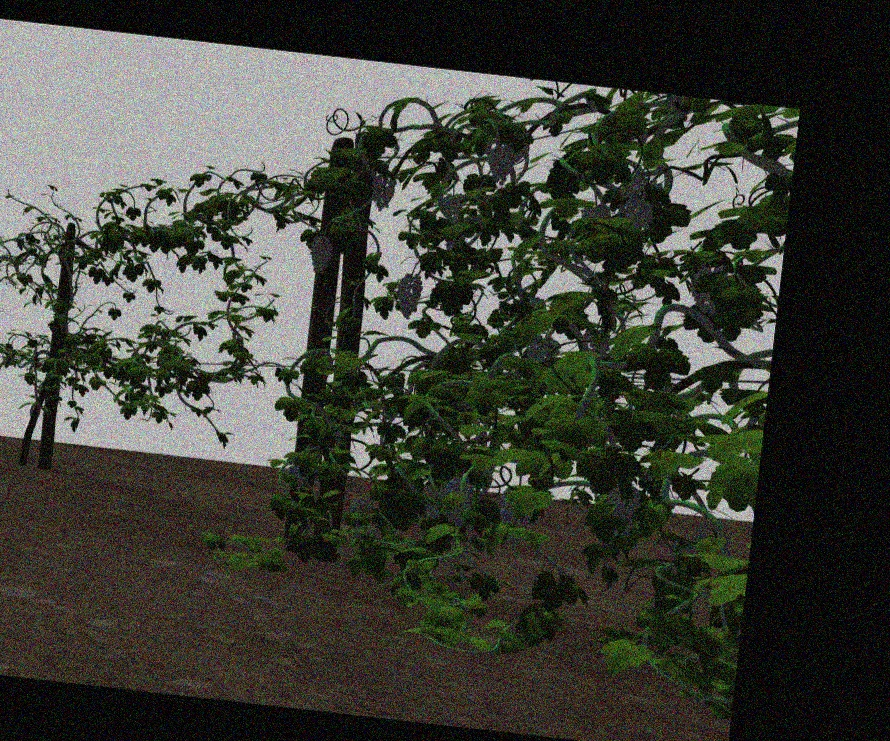grape: (625, 175, 659, 232), (499, 486, 532, 544), (606, 486, 641, 535), (442, 478, 473, 524), (394, 272, 422, 318), (485, 143, 515, 184), (369, 169, 397, 211), (524, 336, 561, 363), (308, 235, 333, 274)
